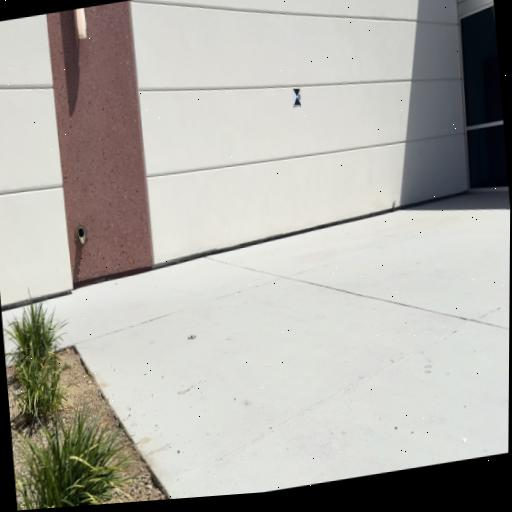target0: (292, 87, 301, 107)
